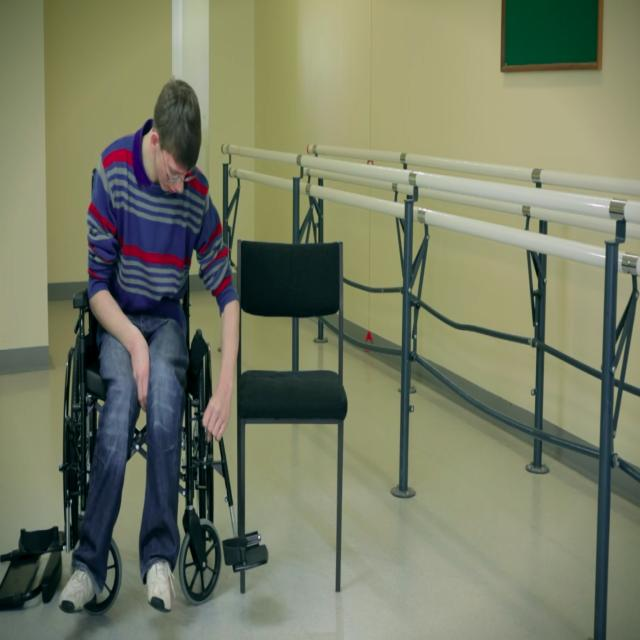wheelchairs: (59, 283, 227, 617)
